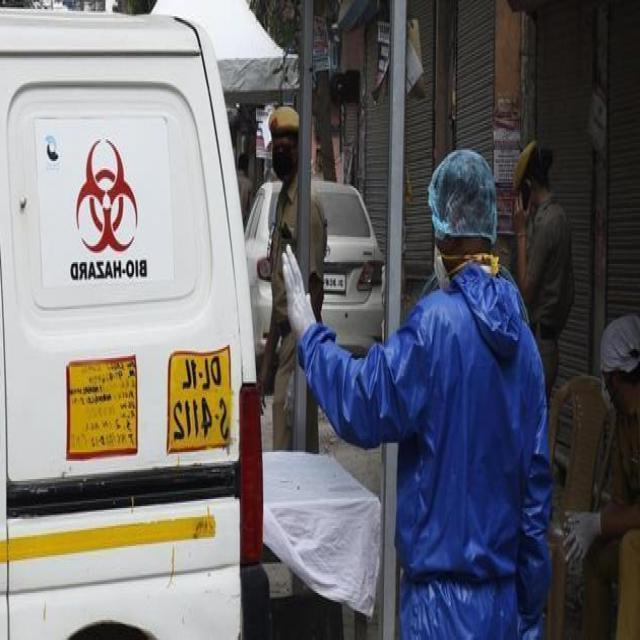gloves: (276, 236, 319, 356)
